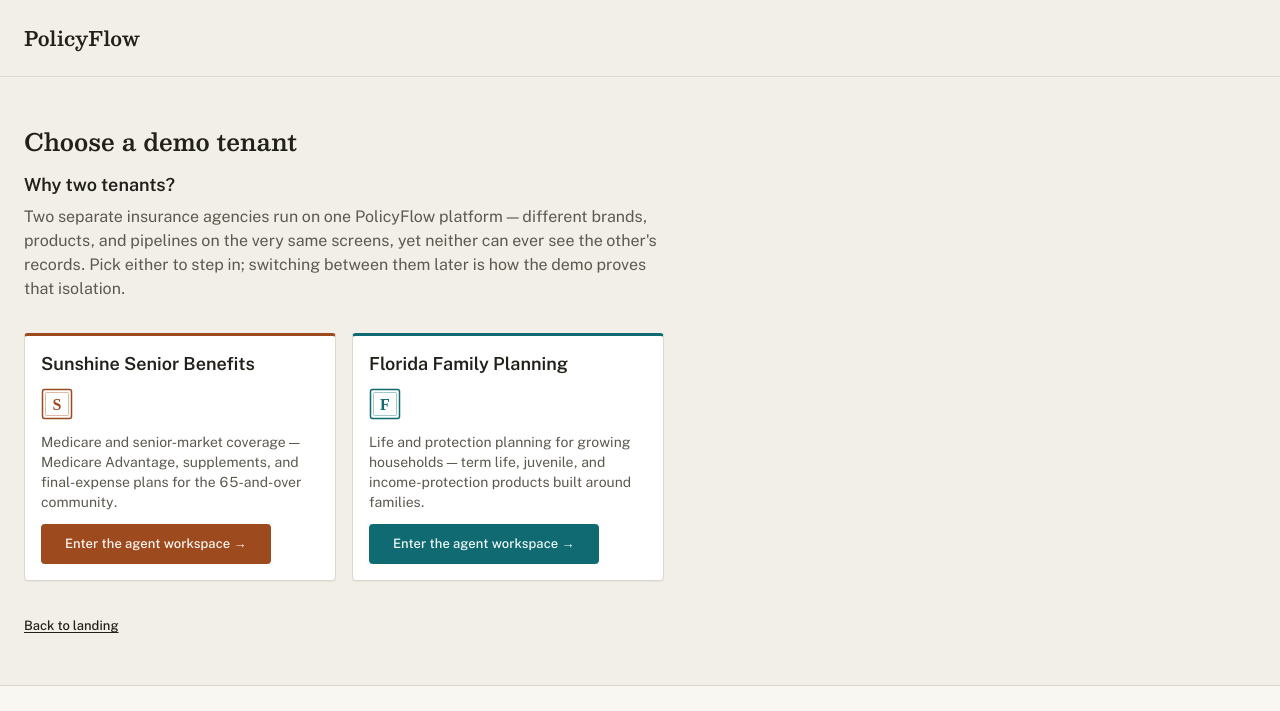
Test: select-tenant robust states › re-enables the controls and shows a message when assume fails
The width and height of the screenshot is (1280, 711).
Expected: the element with id "select-tenant-card-sunshine-senior-benefits" is shown, [24,333,336,581]
Click the button with id "select-tenant-card-sunshine-senior-benefits-enter-button".
click(156, 544)  # box [41,524,270,564]
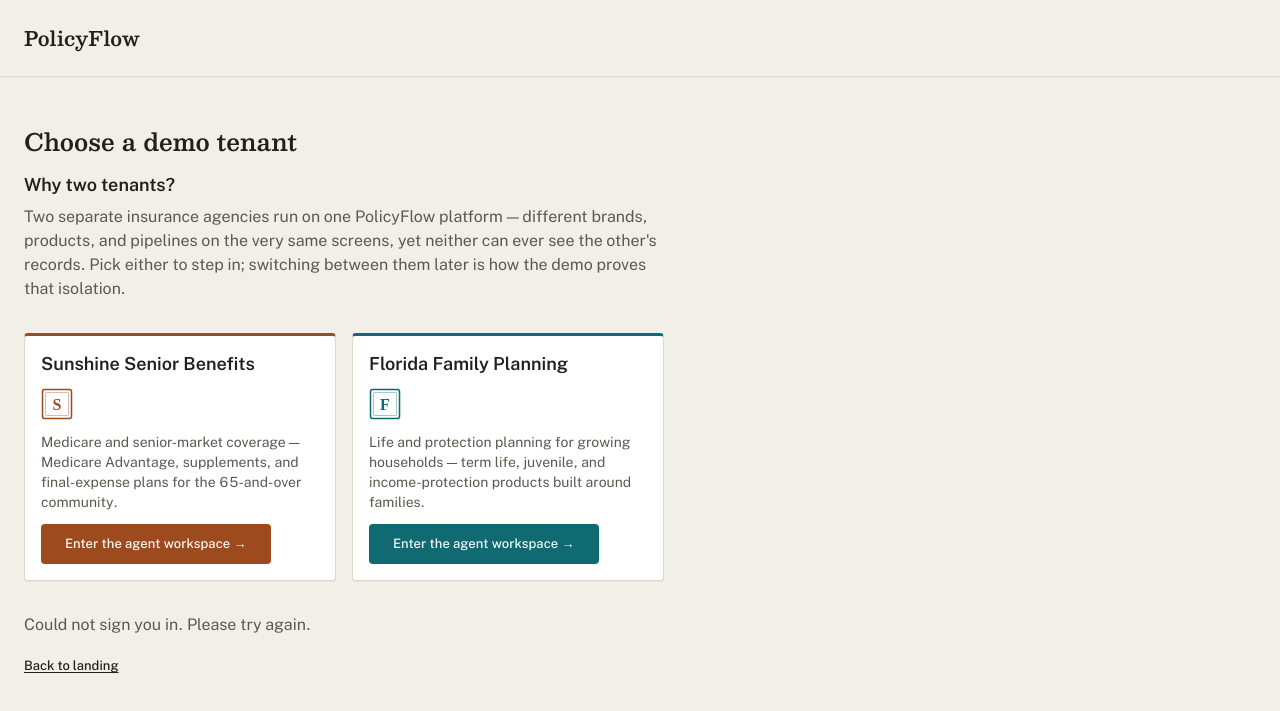
Now the text "Could not sign you in. Please try again." is shown, box [24,615,311,634]
